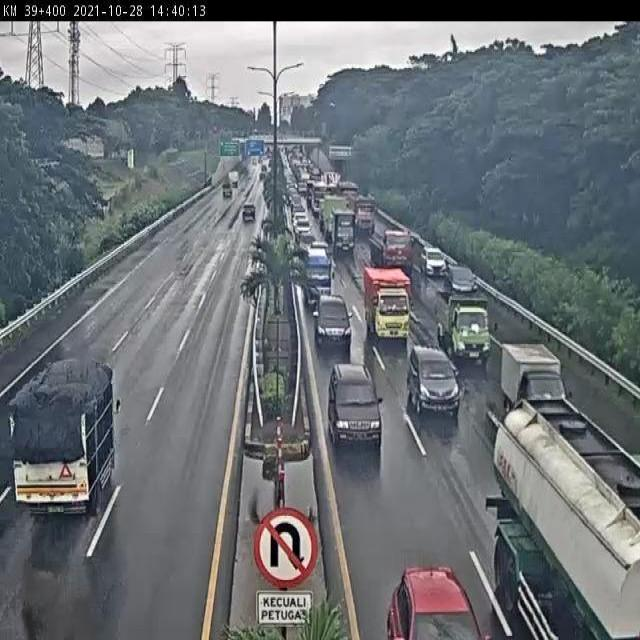bus-s-: (302, 245, 331, 304)
car: (325, 358, 386, 442), (406, 342, 460, 414), (311, 291, 354, 348), (446, 262, 480, 298), (420, 244, 451, 281), (295, 228, 316, 257), (311, 239, 333, 261)
small truck: (13, 359, 120, 512)
truck-m-: (435, 286, 490, 362), (362, 262, 412, 338), (330, 208, 355, 251)
truck-s-: (501, 340, 568, 423)
truck-xl-: (369, 221, 415, 272)
